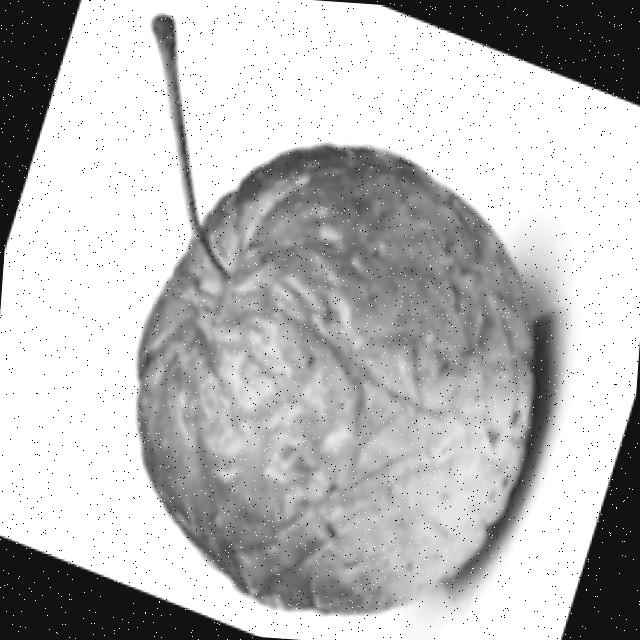overripe: (114, 124, 558, 630)
